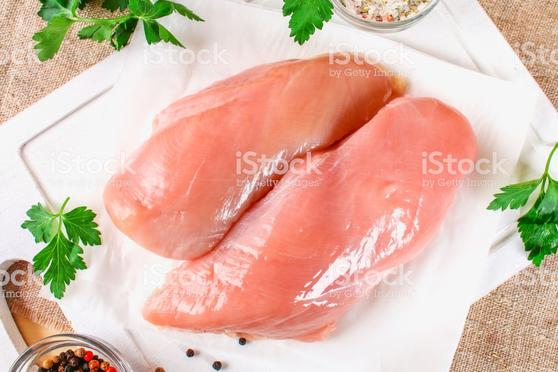chicken_fillet: (129, 134, 483, 349), (106, 55, 406, 258)
